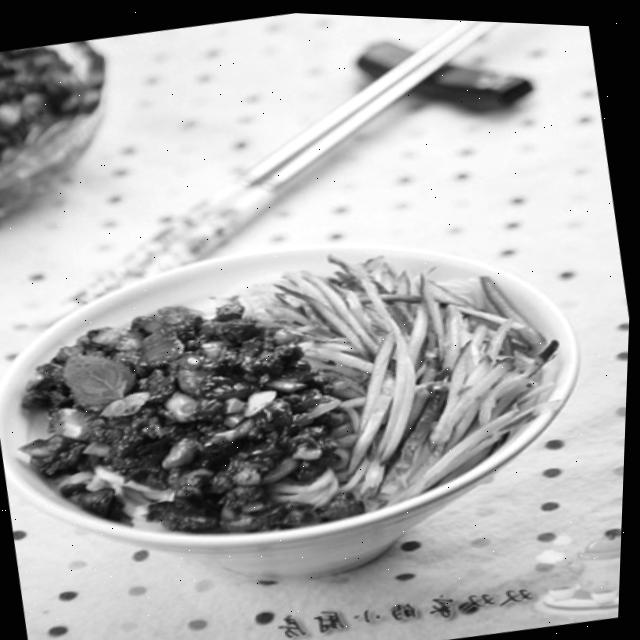面条主食: (0, 167, 623, 611)
